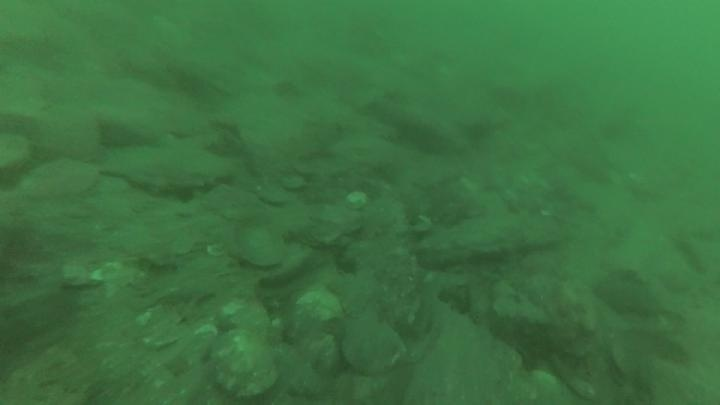holothurian: (97, 140, 240, 200)
scallop: (231, 220, 286, 268)
